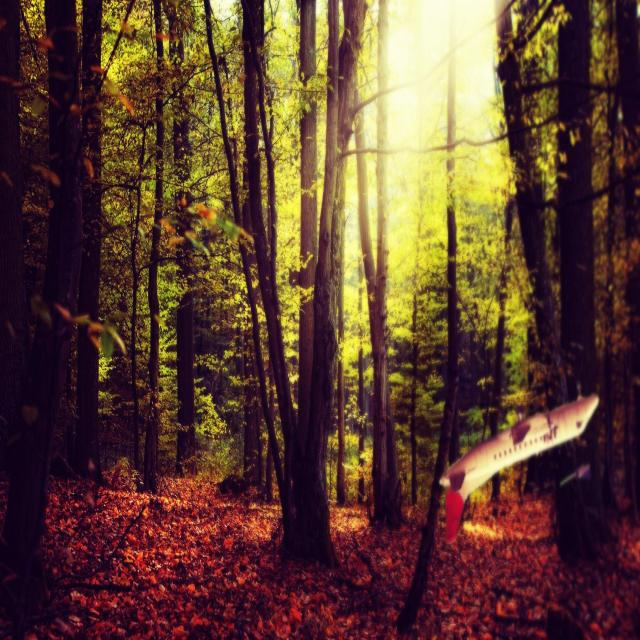airplane: (438, 392, 600, 544)
